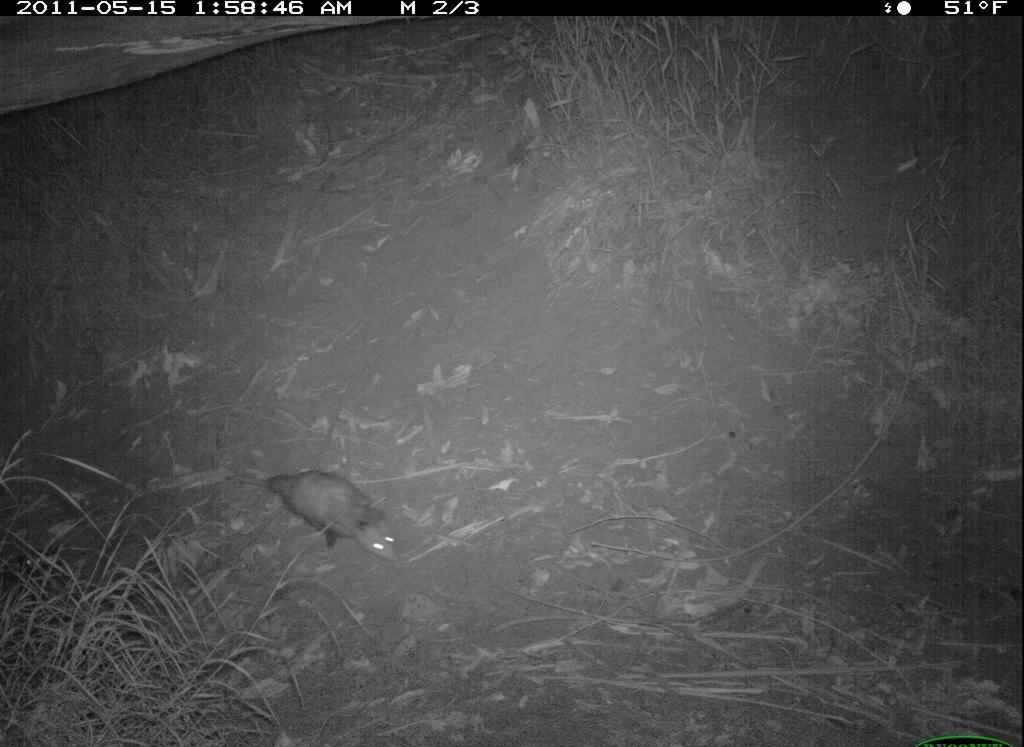opossum: (225, 442, 447, 583)
